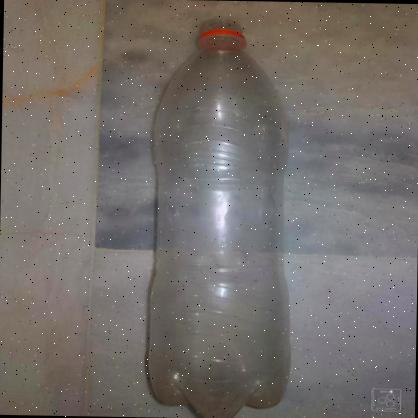bottle: (123, 5, 300, 418)
